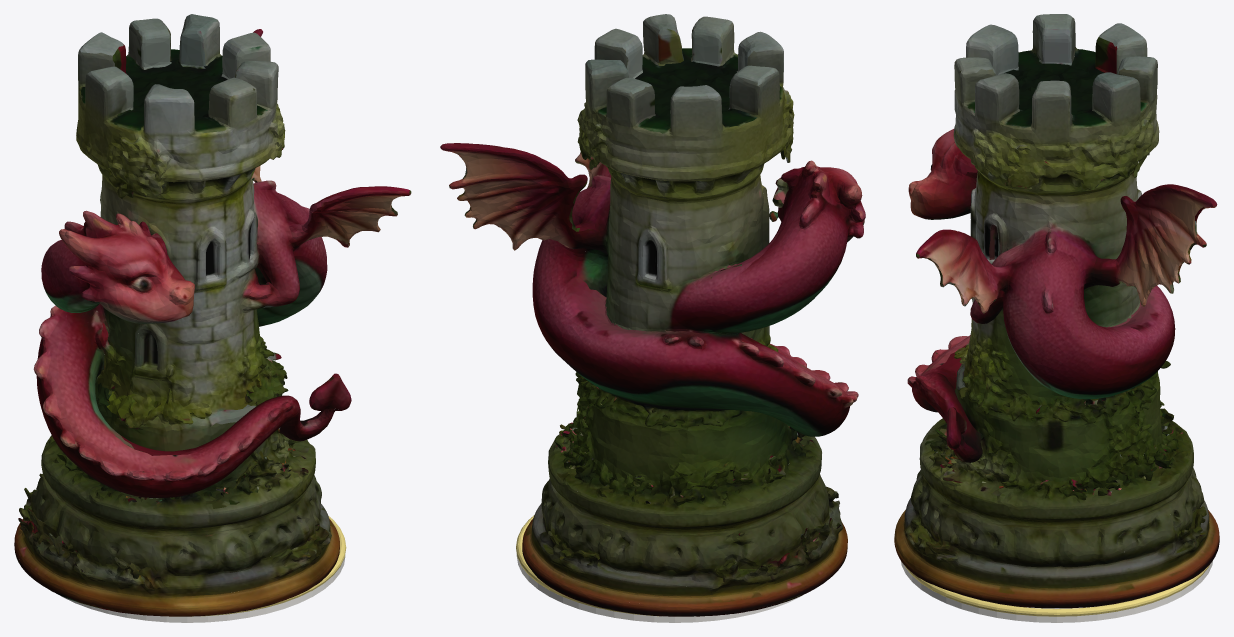
The model's file is rook-swamp-draghessa.glb.
3 views of the same model, side by side, from view 1: azimuth 30°, elevation 25°; view 2: azimuth 150°, elevation 25°; view 3: azimuth 270°, elevation 25° (orthographic).
Parts seen in each view (by area): view 1: tmp0xn35dgk.ply, FactionPedestal, FactionTrimRing; view 2: tmp0xn35dgk.ply, FactionPedestal, FactionTrimRing; view 3: tmp0xn35dgk.ply, FactionTrimRing, FactionPedestal.
Part boxes in pixels (x1=…): tmp0xn35dgk.ply: x1=14, y1=14, x2=411, y2=616; FactionPedestal: x1=60, y1=555, x2=345, y2=622; FactionTrimRing: x1=192, y1=516, x2=346, y2=616; tmp0xn35dgk.ply: x1=440, y1=14, x2=865, y2=616; FactionPedestal: x1=516, y1=554, x2=804, y2=622; FactionTrimRing: x1=516, y1=515, x2=658, y2=616; tmp0xn35dgk.ply: x1=894, y1=14, x2=1219, y2=608; FactionTrimRing: x1=904, y1=565, x2=1209, y2=616; FactionPedestal: x1=901, y1=561, x2=1212, y2=622.
Bounding box in the file's own units: 0.8366 × 1.3 × 0.7679.
Materials: 3 (1 with a texture image).
